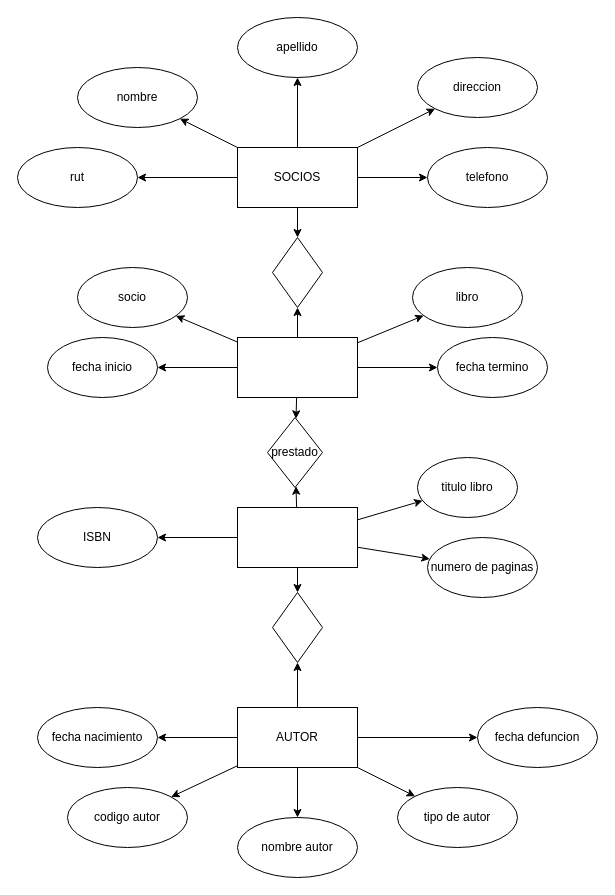
Image size: 615x895. Some labels were removed from this diagram. The shapes that lost their labels are listed below. From the top down, each one's centre as x and y in pixels, then its label:
At (297,272): "realiza".
At (297,367): "PRESTAMO".
At (297,537): "LIBROS".
At (297,627): "tiene".
